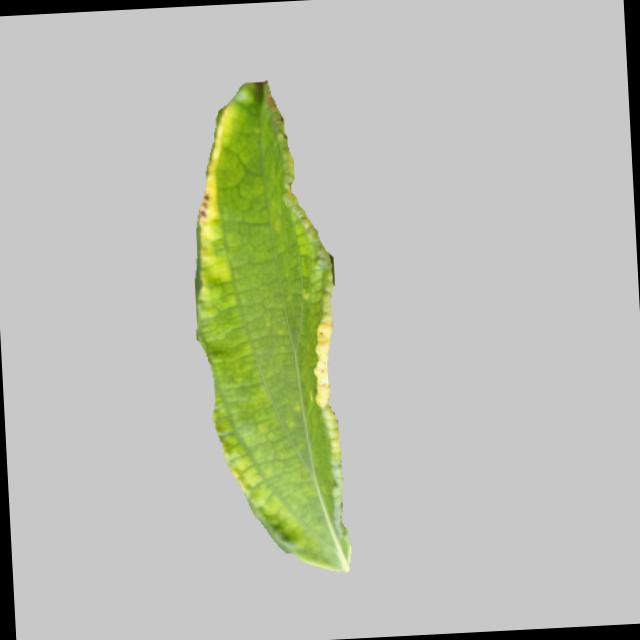yellow-mottle-virus: (184, 80, 355, 577)
